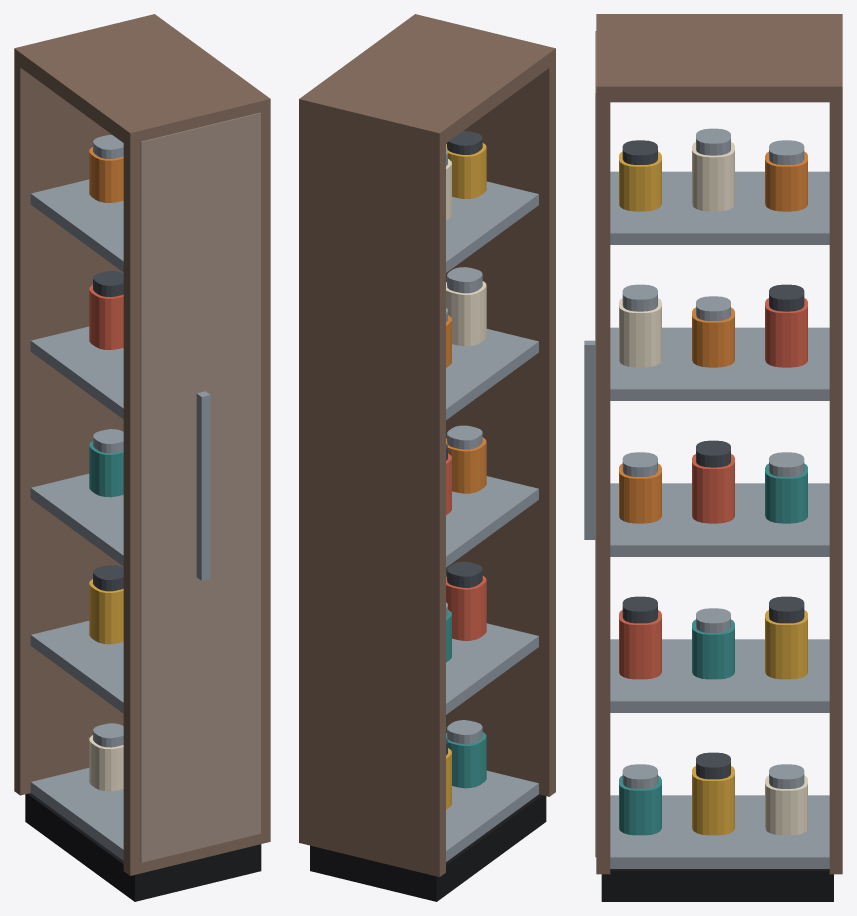
File: pocket_pantry.glb
The picture shows the model from 3 angles, left to right: view 1: azimuth 30°, elevation 25°; view 2: azimuth 150°, elevation 25°; view 3: azimuth 270°, elevation 25°; orthographic projection. The views are drawn at different scales.
Visible parts, largest first — view 1: pocket_pantry_Body; view 2: pocket_pantry_Body; view 3: pocket_pantry_Body.
Boxes of the visible parts, x1,y1,x2,y2 form: pocket_pantry_Body: (14,14,270,901); pocket_pantry_Body: (299,14,555,901); pocket_pantry_Body: (584,14,842,901).
Size of the model in its own units: 0.4 by 2.1 by 0.6.
